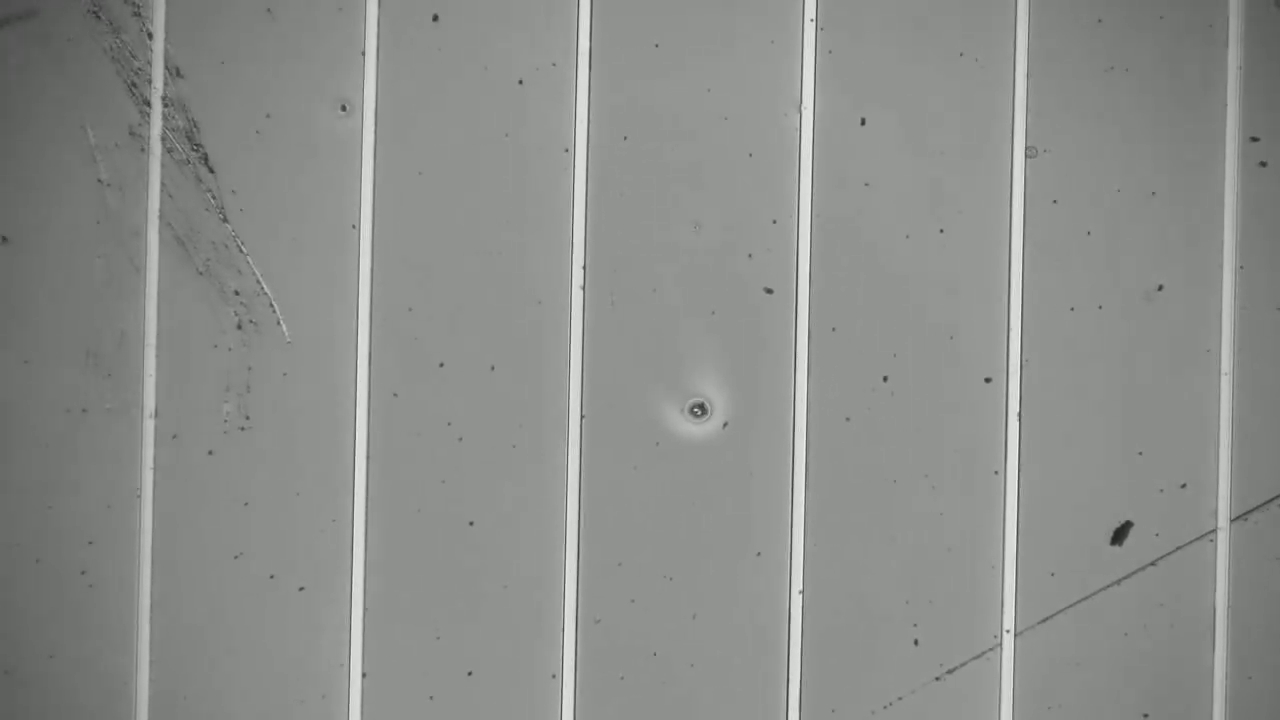scratch: (899, 483, 1280, 700), (101, 24, 298, 345)
